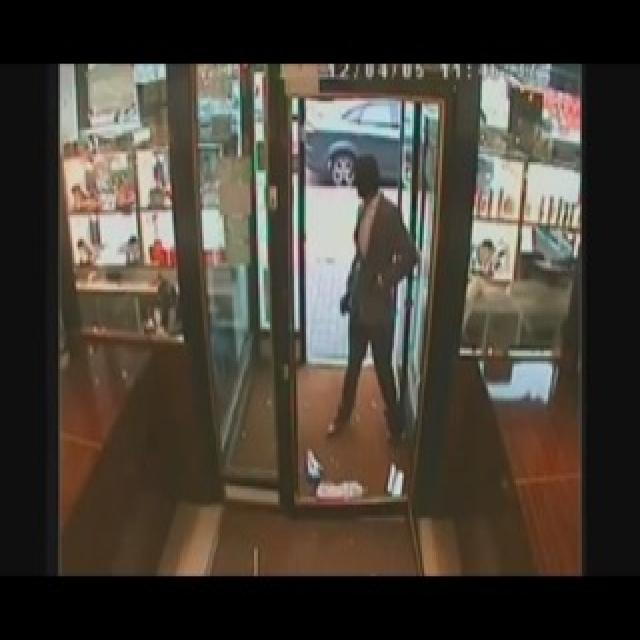thief: (326, 137, 419, 326)
